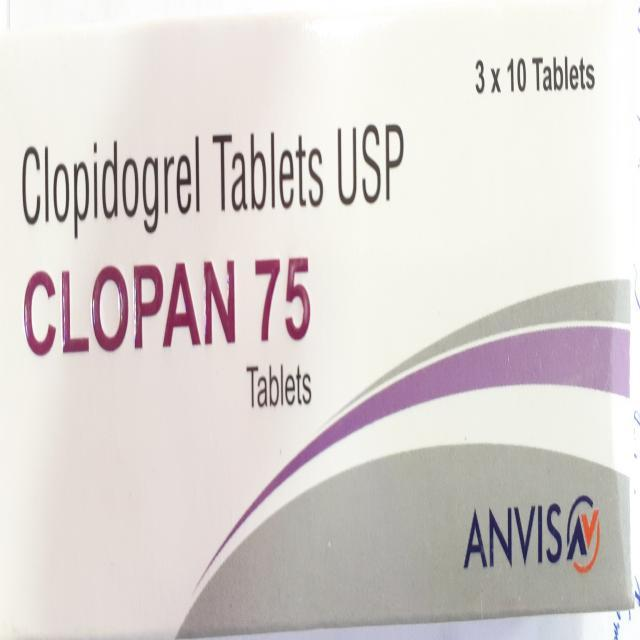drug-name: (21, 244, 313, 356)
